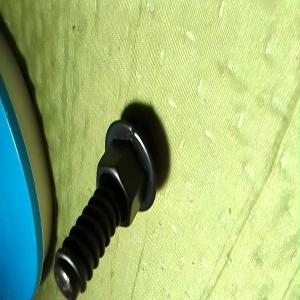parafuso: (53, 118, 157, 300)
